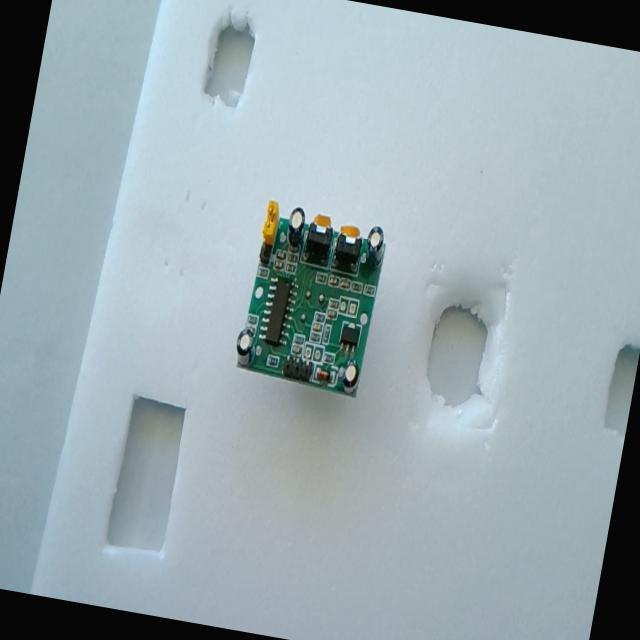Electrolytic capacitor: (362, 224, 388, 269), (232, 325, 258, 366), (284, 205, 308, 248), (340, 360, 360, 394)
IC: (258, 274, 298, 348)
pinheader: (282, 354, 314, 382)
